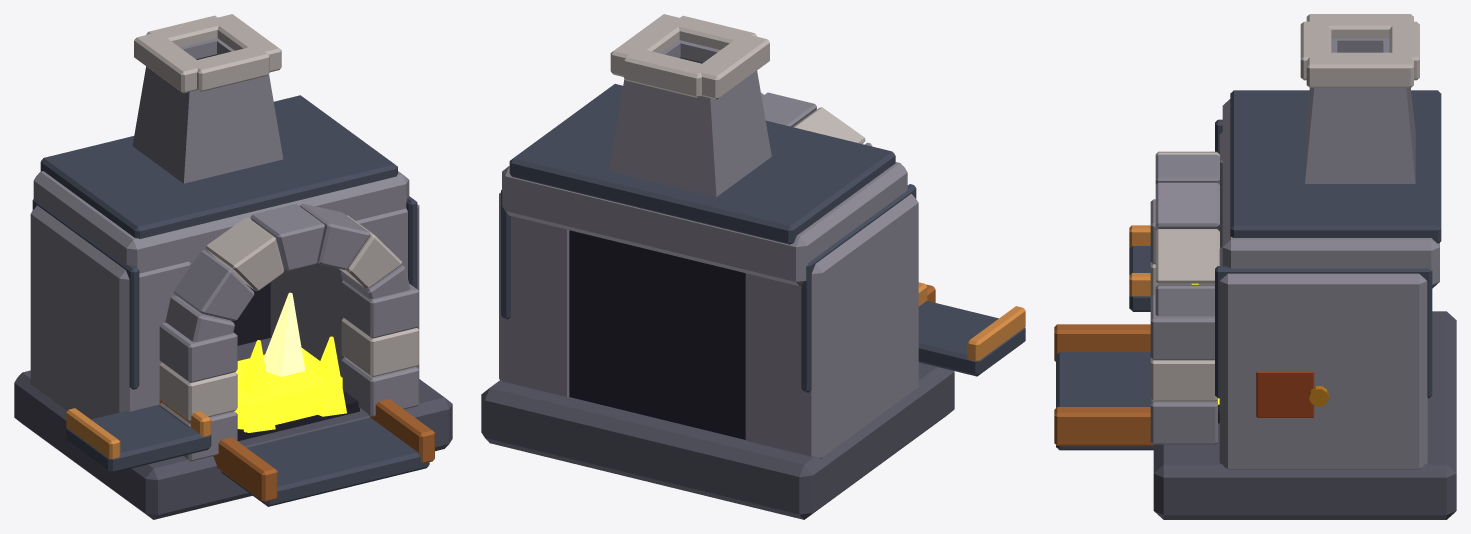
Rendered from Furnace.fbx.
3 views of the same model, side by side, from view 1: azimuth 30°, elevation 25°; view 2: azimuth 150°, elevation 25°; view 3: azimuth 270°, elevation 25° (orthographic). The views are drawn at different scales.
Parts seen in each view (by area): view 1: Furnace_Wall_L, Furnace_MetalCrown, Chimney_HollowFlue, Furnace_Foundation, Furnace_TopSlab, OutputTray_MetalBed, Chimney, Furnace_Wall_R, InputTray_MetalBasin, Fire_OrangeHearth, Furnace_ArchStone_4, Furnace_ArchStone_5 (+22 smaller); view 2: Furnace_Wall_L, Furnace_RearWall, Furnace_Foundation, Furnace_MetalCrown, Furnace_TopSlab, Chimney_HollowFlue, Furnace_Wall_R, Chimney, InputTray_MetalBasin, Furnace_OuterMetal_L, InputTray_Rail_L, Furnace_ArchStone_3 (+2 smaller); view 3: Furnace_Wall_R, Furnace_Foundation, Furnace_MetalCrown, Chimney_HollowFlue, Furnace_TopSlab, Chimney, OutputTray_MetalBed, OutputTray_WoodRail_0.64, Furnace_ArchStone_1, Furnace_ArchStone_2, Furnace_ArchPier_R_2, Furnace_ArchPier_R_0 (+9 smaller).
Part boxes in pixels (<box>): Furnace_Wall_L: <box>30,205,191,419</box>; Furnace_MetalCrown: <box>40,95,397,238</box>; Chimney_HollowFlue: <box>132,38,283,183</box>; Furnace_Foundation: <box>14,338,452,519</box>; Furnace_TopSlab: <box>33,171,409,273</box>; OutputTray_MetalBed: <box>221,417,429,506</box>; Chimney: <box>134,14,281,93</box>; Furnace_Wall_R: <box>270,204,419,376</box>; InputTray_MetalBasin: <box>66,404,211,473</box>; Fire_OrangeHearth: <box>234,348,342,432</box>; Furnace_ArchStone_4: <box>205,217,283,290</box>; Furnace_ArchStone_5: <box>174,250,254,320</box>; Furnace_Wall_L: <box>745,194,918,458</box>; Furnace_RearWall: <box>569,230,745,439</box>; Furnace_Foundation: <box>481,362,954,519</box>; Furnace_MetalCrown: <box>509,84,895,244</box>; Furnace_TopSlab: <box>502,162,907,286</box>; Chimney_HollowFlue: <box>609,40,771,197</box>; Furnace_Wall_R: <box>499,192,569,397</box>; Chimney: <box>610,14,769,99</box>; InputTray_MetalBasin: <box>918,301,1025,376</box>; Furnace_OuterMetal_L: <box>801,184,916,392</box>; InputTray_Rail_L: <box>967,306,1025,361</box>; Furnace_ArchStone_3: <box>761,92,816,126</box>; Furnace_Wall_R: <box>1219,247,1427,469</box>; Furnace_Foundation: <box>1153,311,1456,519</box>; Furnace_MetalCrown: <box>1230,90,1441,243</box>; Chimney_HollowFlue: <box>1305,38,1415,183</box>; Furnace_TopSlab: <box>1222,99,1439,288</box>; Chimney: <box>1300,14,1419,87</box>; OutputTray_MetalBed: <box>1056,352,1153,450</box>; OutputTray_WoodRail_0.64: <box>1054,407,1153,445</box>; Furnace_ArchStone_1: <box>1155,229,1219,283</box>; Furnace_ArchStone_2: <box>1155,182,1219,231</box>; Furnace_ArchPier_R_2: <box>1150,295,1214,360</box>; Furnace_ArchPier_R_0: <box>1150,399,1217,444</box>.
Bounding box in the file's own units: 2.94 × 2.92 × 2.63.
